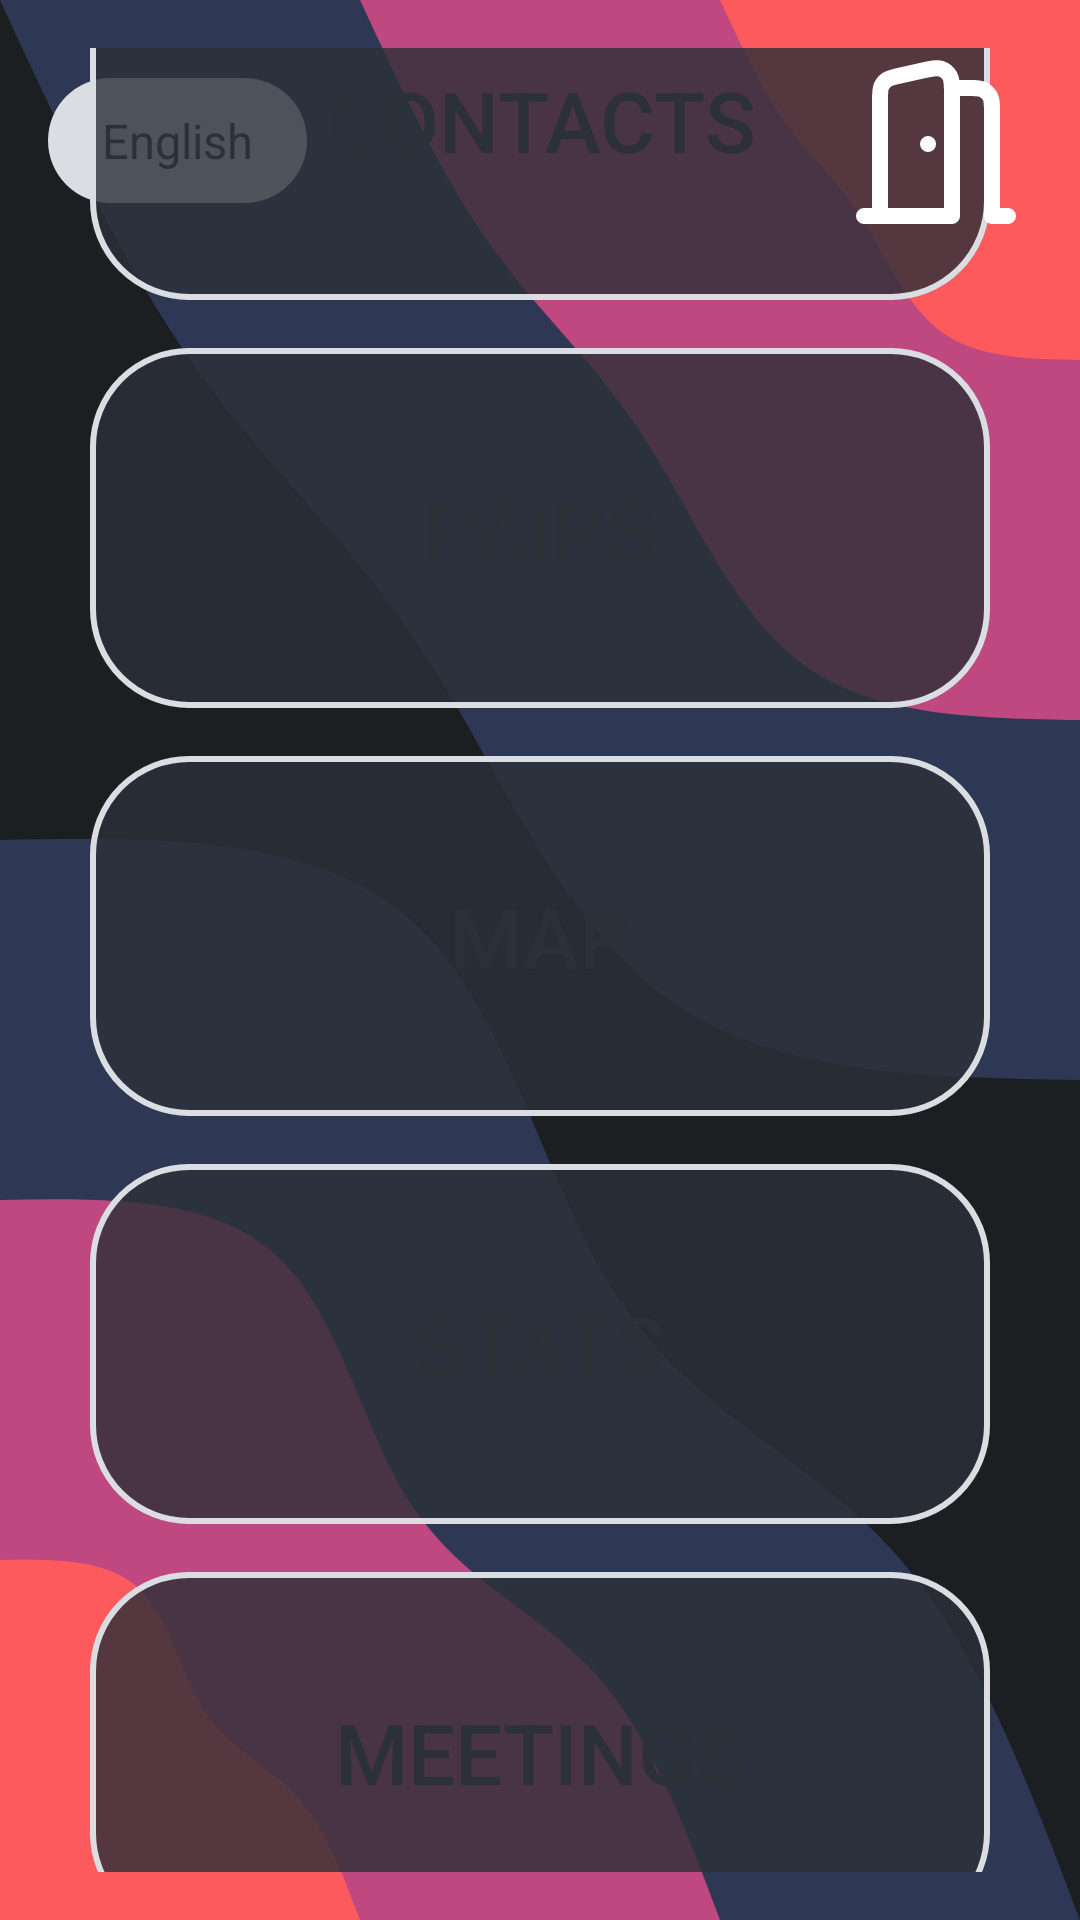

Where to tap for icons on this 1080px×1920px app screen, as (x,y):
door: (936,144)
